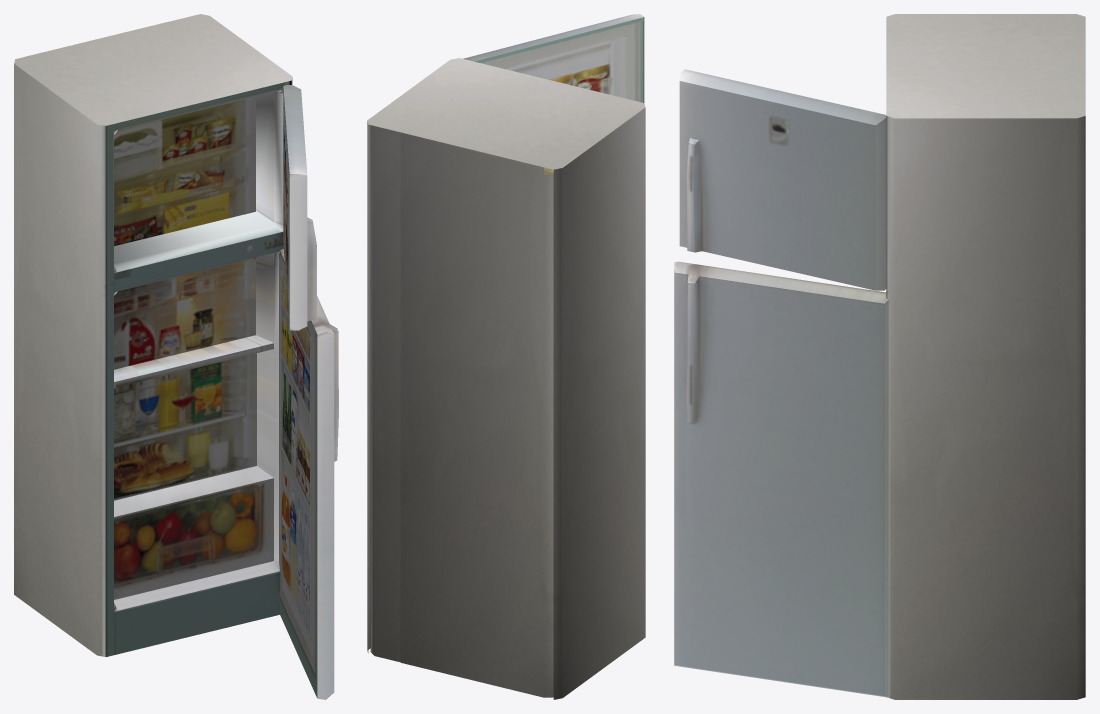
File: refrigerador.obj
3 views of the same model, side by side, from view 1: azimuth 30°, elevation 25°; view 2: azimuth 150°, elevation 25°; view 3: azimuth 270°, elevation 25° (orthographic). The views are drawn at different scales.
Visible parts, largest first — view 1: Object002; view 2: Object002; view 3: Object002.
Part boxes in pixels (box(x1,y1,x2,y2)): Object002: box(14, 14, 338, 699); Object002: box(367, 14, 645, 699); Object002: box(674, 14, 1085, 699).
Size of the model in its own units: 146 by 380 by 243.
Materials: 1 (1 with a texture image).
